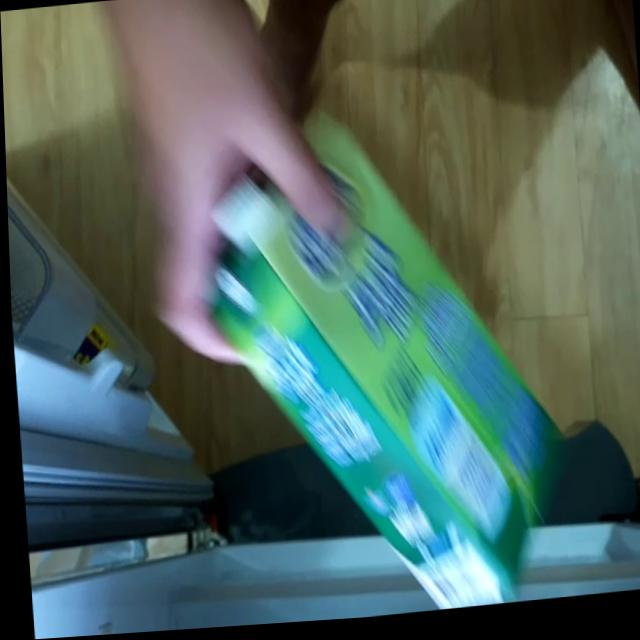milk: (198, 97, 568, 630)
